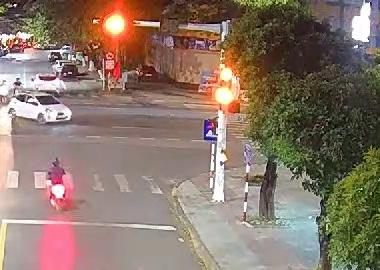stop_line: (3, 219, 175, 230)
yellow_light: (100, 11, 131, 38), (215, 79, 233, 111)
